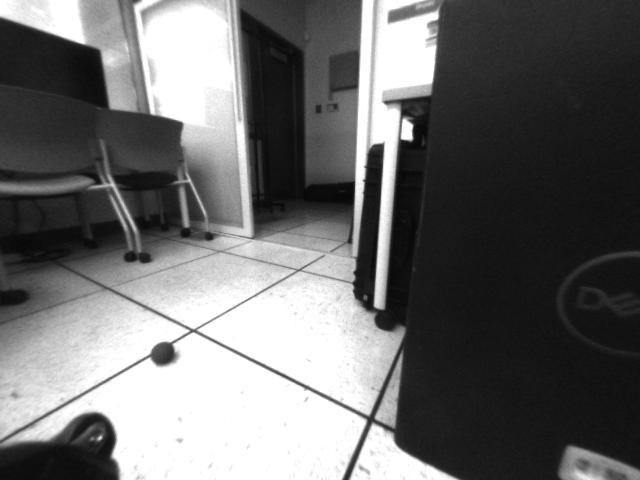dogtoy: (144, 336, 180, 368)
